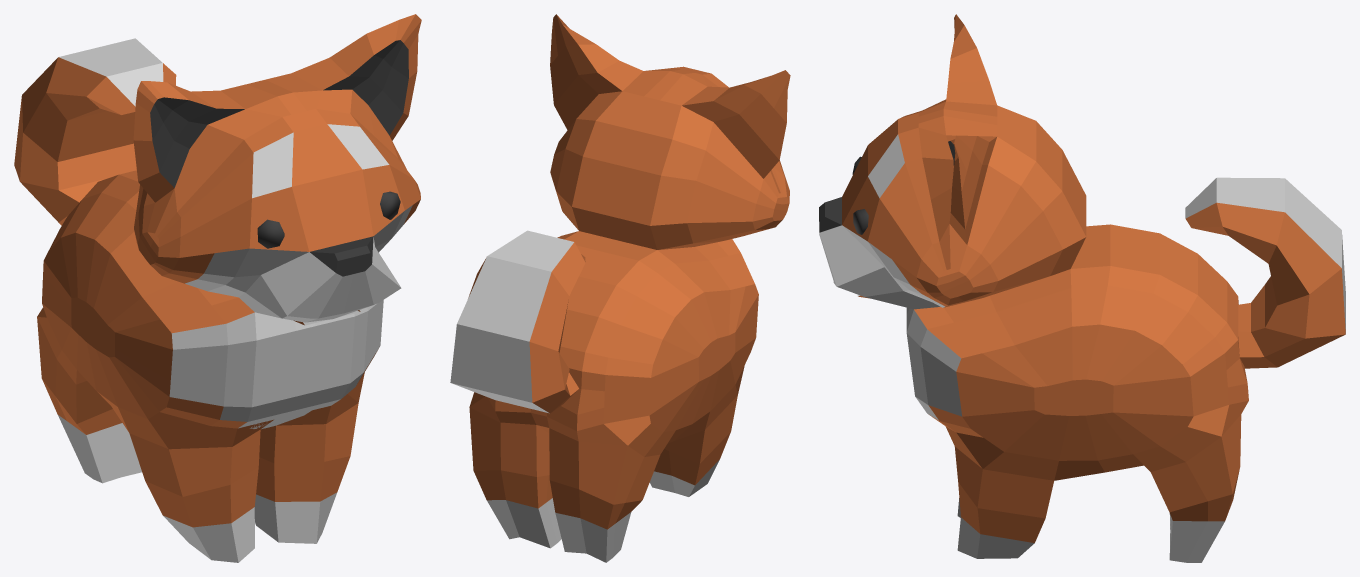
Rendered from doggo.fbx.
The picture shows the model from 3 angles, left to right: view 1: azimuth 30°, elevation 25°; view 2: azimuth 150°, elevation 25°; view 3: azimuth 270°, elevation 25°; orthographic projection. The views are drawn at different scales.
Visible parts, largest first — view 1: Plane.001, Cylinder.001; view 2: Plane.001; view 3: Plane.001.
Part boxes in pixels (box(x1,y1,x2,y2)): Plane.001: box(14, 14, 421, 562); Cylinder.001: box(257, 219, 284, 248); Plane.001: box(450, 14, 790, 562); Plane.001: box(819, 14, 1345, 562).
Size of the model in its own units: 168 by 288 by 297.
